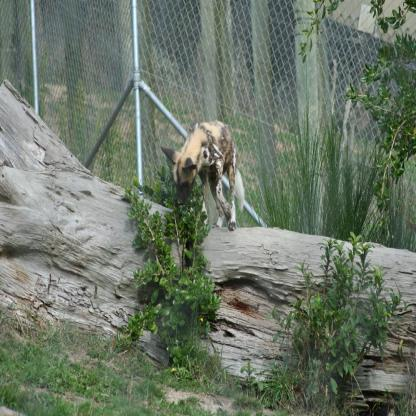African_hunting_dog: (159, 116, 245, 232)
